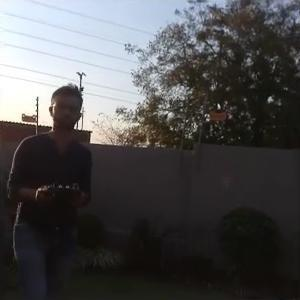follow: (5, 81, 94, 298)
